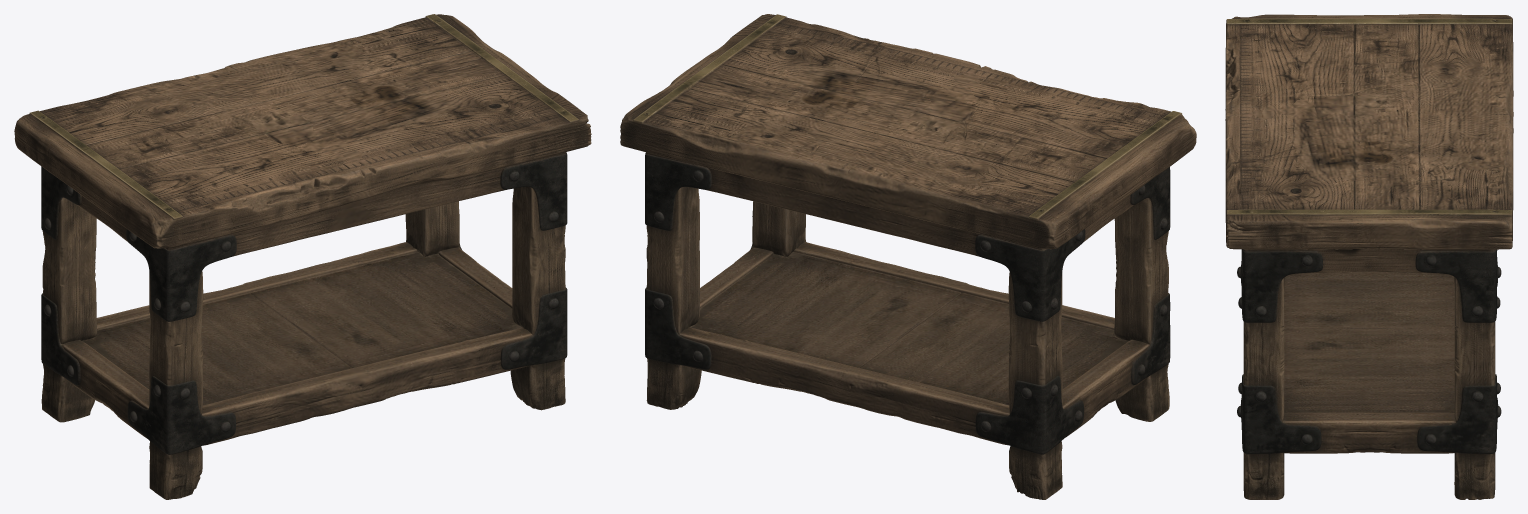
The model's file is bench_table.glb.
3 views of the same model, side by side, from view 1: azimuth 30°, elevation 25°; view 2: azimuth 150°, elevation 25°; view 3: azimuth 270°, elevation 25° (orthographic).
Size of the model in its own units: 1.89 by 1.2 by 1.09.
1 material, 1 textured.
